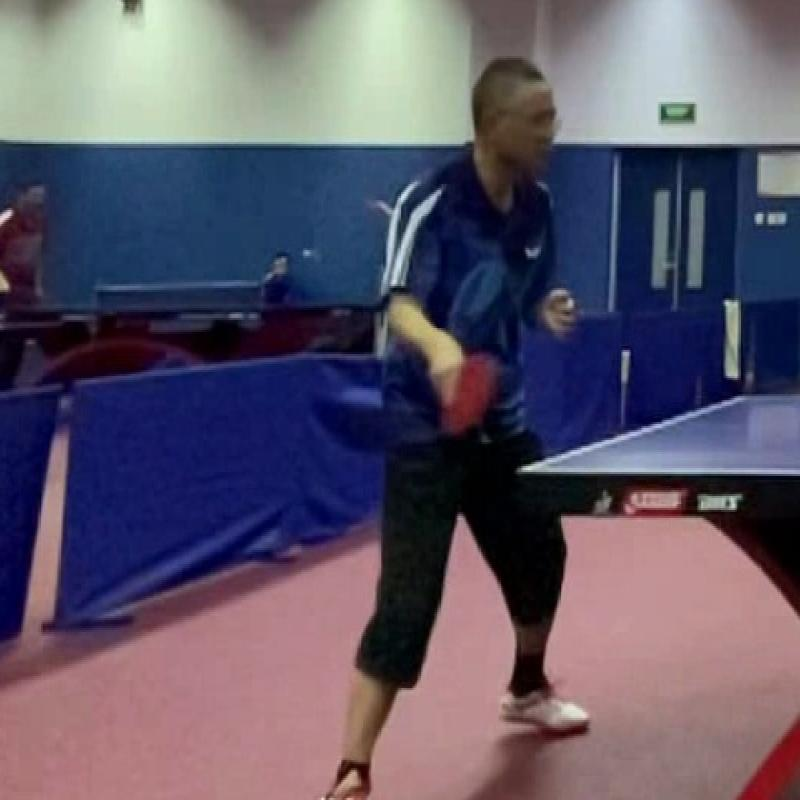bats: (415, 340, 514, 456)
